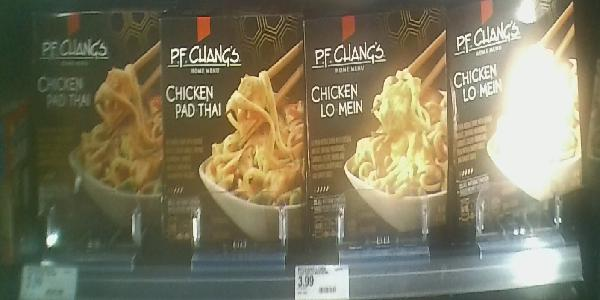pizza1: (162, 7, 311, 242), (306, 10, 450, 244), (31, 9, 165, 241), (453, 1, 577, 245)
